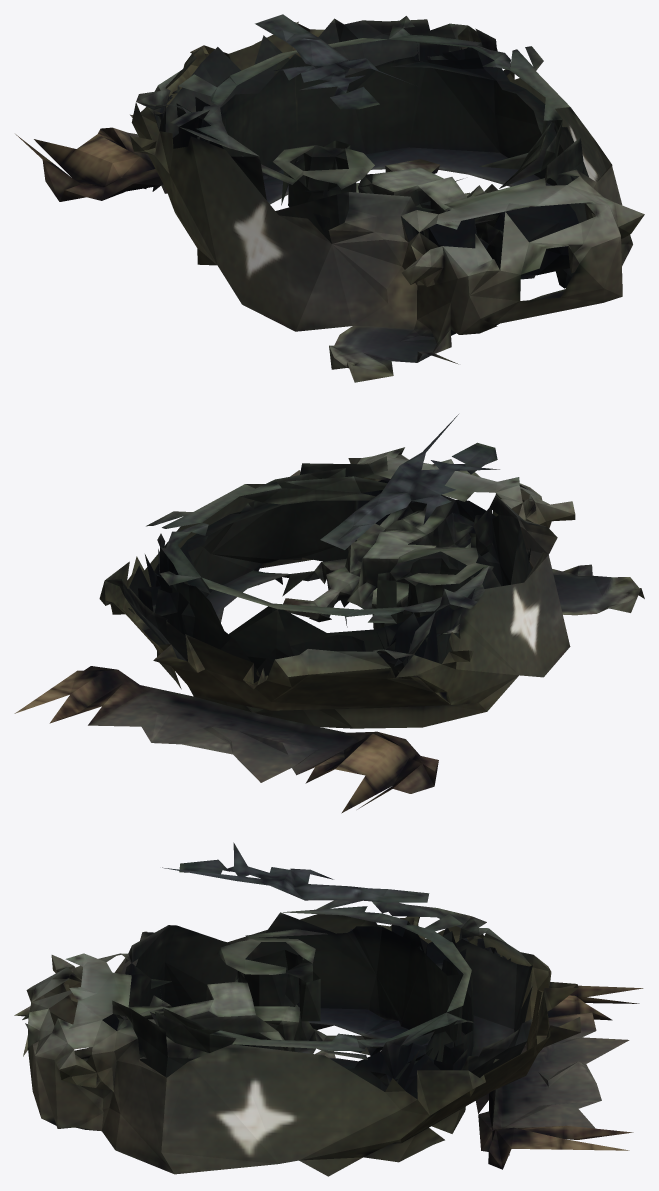
The model's file is hellcat_turret.glb.
The picture shows the model from 3 angles, top to bottom: view 1: azimuth 30°, elevation 25°; view 2: azimuth 150°, elevation 25°; view 3: azimuth 270°, elevation 25°; orthographic projection. The views are drawn at different scales.
Parts seen in each view (by area): view 1: hellcat_00001_.glb; view 2: hellcat_00001_.glb; view 3: hellcat_00001_.glb.
Boxes of the visible parts, x1=… form: hellcat_00001_.glb: x1=15, y1=14, x2=644, y2=382; hellcat_00001_.glb: x1=14, y1=414, x2=644, y2=813; hellcat_00001_.glb: x1=14, y1=842, x2=643, y2=1176.
Size of the model in its own units: 2.32 by 1.26 by 3.39.
1 material, 1 textured.
